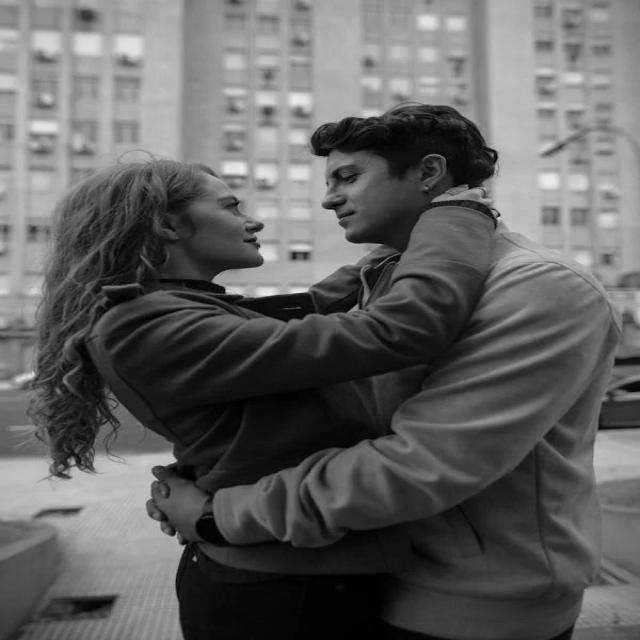Real human 2: (30, 84, 640, 640)
